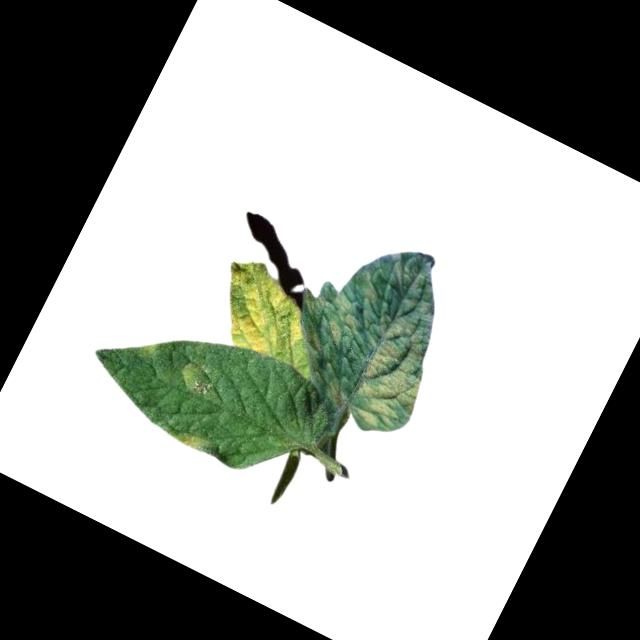Leaf_Mold: (198, 249, 326, 372), (343, 309, 454, 443), (286, 250, 405, 369), (174, 359, 224, 404), (320, 375, 355, 412), (131, 333, 164, 366), (178, 426, 214, 456)
